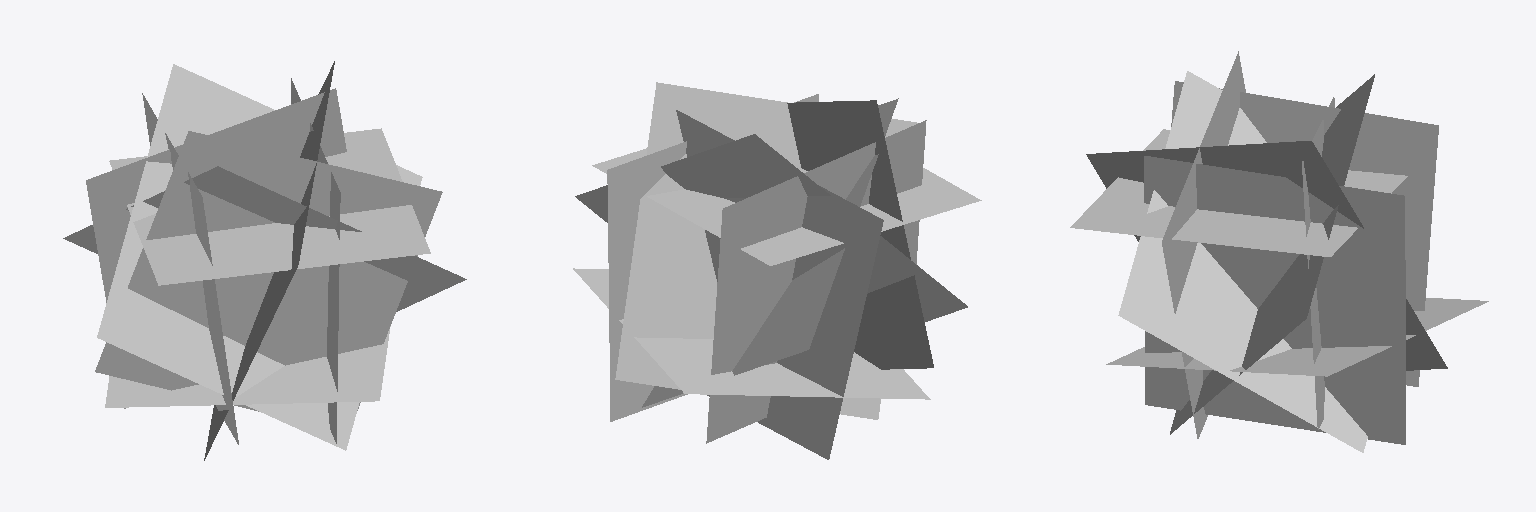
File: spruce_leaves_3.obj
3 views of the same model, side by side, from view 1: azimuth 30°, elevation 25°; view 2: azimuth 150°, elevation 25°; view 3: azimuth 270°, elevation 25° (orthographic).
Visible parts, largest first — view 1: east, south, west, top, bottom, north; view 2: east, south, west, bottom, north, top; view 3: north, west, south, east, top, bottom.
Boxes of the visible parts, x1=… form: east: x1=95, y1=61, x2=442, y2=460; south: x1=97, y1=64, x2=422, y2=450; west: x1=63, y1=88, x2=466, y2=408; top: x1=109, y1=128, x2=430, y2=285; bottom: x1=105, y1=326, x2=390, y2=407; north: x1=291, y1=78, x2=340, y2=443; east: x1=615, y1=82, x2=933, y2=419; south: x1=575, y1=120, x2=967, y2=443; west: x1=642, y1=98, x2=898, y2=459; bottom: x1=573, y1=268, x2=930, y2=399; north: x1=607, y1=94, x2=818, y2=421; top: x1=592, y1=148, x2=981, y2=265; north: x1=1144, y1=156, x2=1405, y2=444; west: x1=1118, y1=71, x2=1367, y2=452; south: x1=1170, y1=74, x2=1438, y2=434; east: x1=1086, y1=51, x2=1447, y2=438; top: x1=1070, y1=129, x2=1407, y2=256; bottom: x1=1106, y1=298, x2=1488, y2=376.
Size of the model in its own units: 2.25 by 1.98 by 2.27.